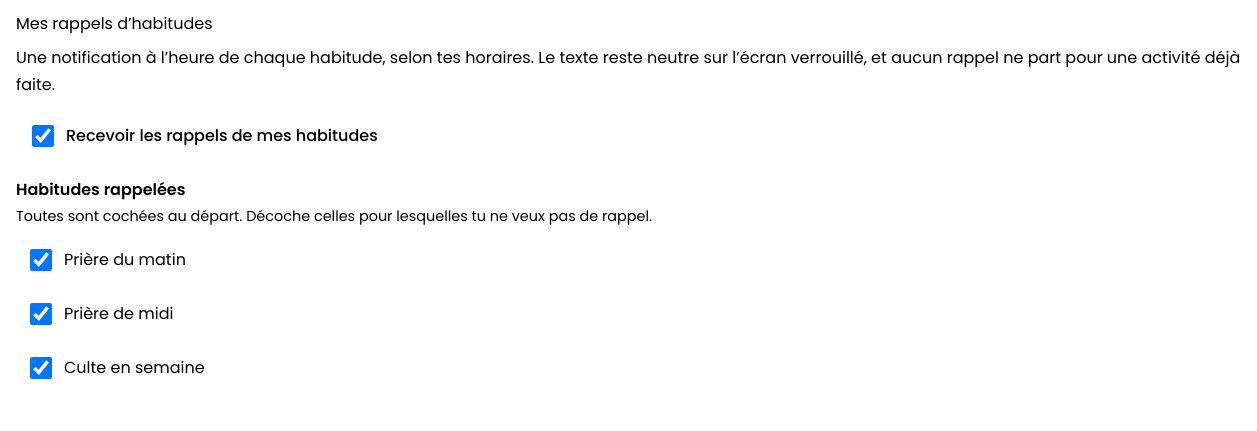
Test: décocher une habitude la retire, la recocher la rétablit
This screenshot has width=1257, height=431.
Click the checkbox labelled "Prière de midi": [41, 314] box [30, 303, 52, 325]
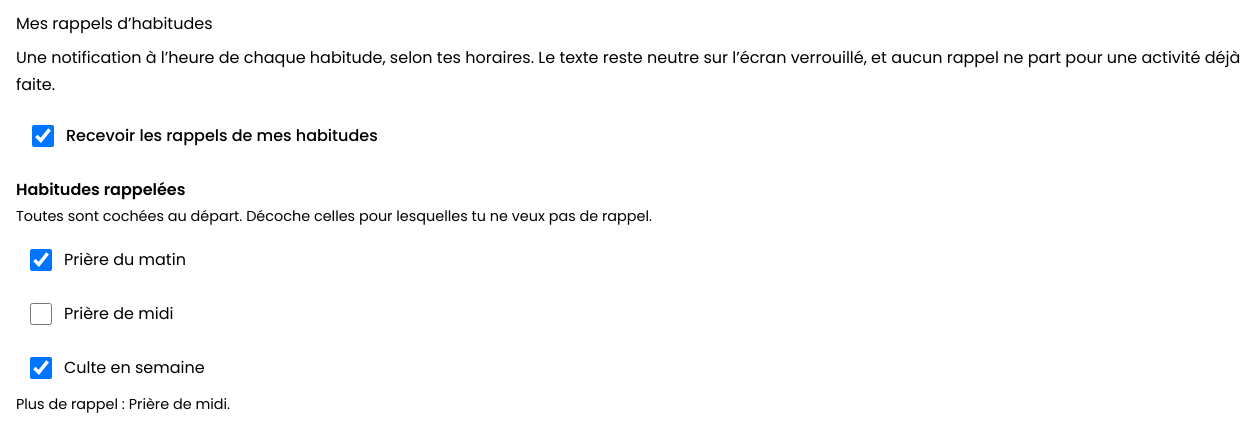
Check: the checkbox labelled "Prière de midi" is not checked
Check: the text "Plus de rappel : Prière de midi." is shown, box [16, 394, 230, 414]
Click the checkbox labelled "Prière de midi": [41, 314] box [30, 303, 52, 325]
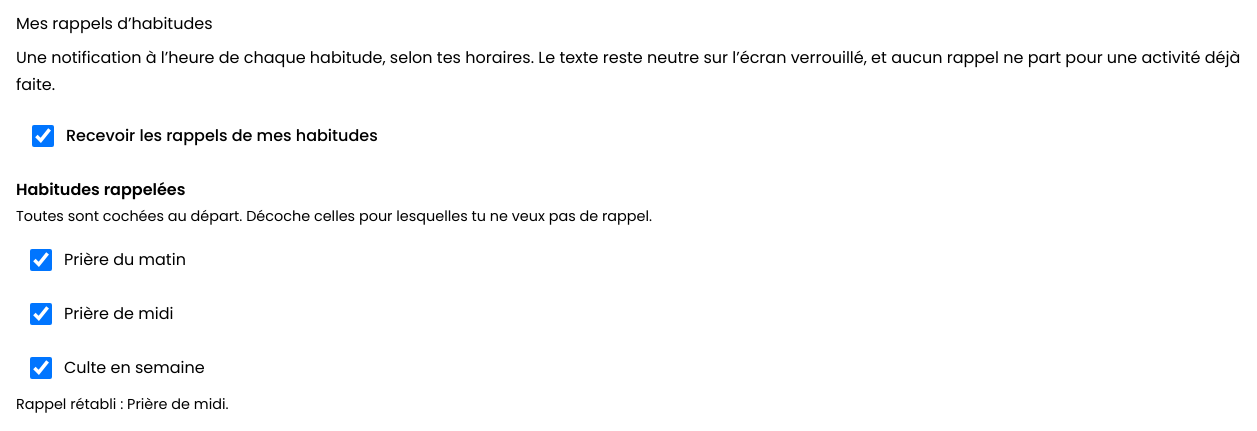
Check: the text "Rappel rétabli : Prière de midi." is shown, box [16, 394, 228, 414]
